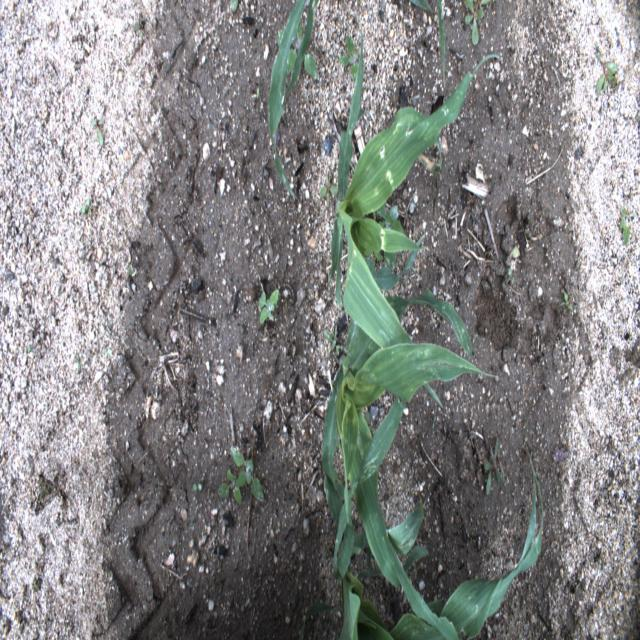crop: (327, 29, 500, 410), (322, 289, 500, 639), (324, 452, 544, 640), (268, 0, 308, 200), (282, 0, 319, 109), (298, 603, 336, 639), (437, 0, 445, 89), (410, 0, 436, 15)
weed: (277, 19, 320, 78), (230, 446, 265, 504), (484, 438, 507, 496), (463, 0, 492, 44), (376, 197, 404, 237), (338, 35, 359, 85), (596, 52, 618, 96), (217, 466, 242, 504), (258, 288, 279, 325), (319, 173, 341, 206), (619, 207, 635, 246), (323, 326, 341, 357), (91, 116, 105, 146), (38, 476, 56, 498), (384, 242, 396, 271), (363, 245, 382, 261), (558, 291, 572, 311), (81, 198, 93, 215), (72, 353, 84, 368), (230, 0, 239, 12), (191, 483, 202, 491), (24, 344, 31, 352)
